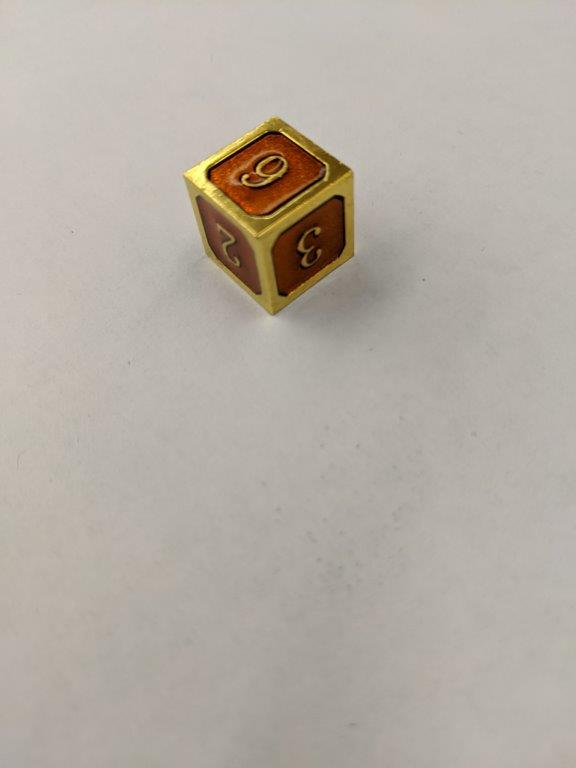d6-6: (179, 117, 356, 314)
